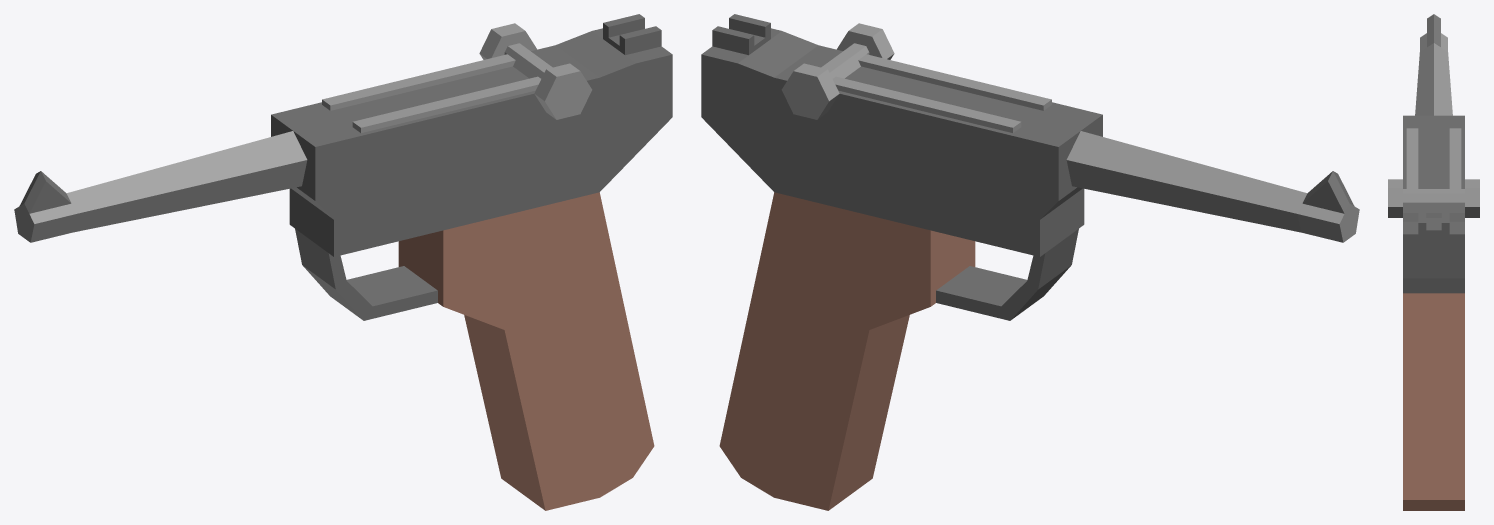
The model's file is Luger.fbx.
The picture shows the model from 3 angles, left to right: view 1: azimuth 30°, elevation 25°; view 2: azimuth 150°, elevation 25°; view 3: azimuth 270°, elevation 25°; orthographic projection. The views are drawn at different scales.
Visible parts, largest first — view 1: Gun, Top; view 2: Gun, Top; view 3: Gun, Top.
Boxes of the visible parts, left/top/right/bottom form: Gun: left=14, top=14, right=672, bottom=510; Top: left=322, top=23, right=592, bottom=132; Gun: left=701, top=14, right=1359, bottom=510; Top: left=781, top=23, right=1051, bottom=132; Gun: left=1403, top=14, right=1464, bottom=510; Top: left=1388, top=128, right=1479, bottom=217.
Bounding box in the file's own units: 0.1716 × 0.1156 × 0.031.
